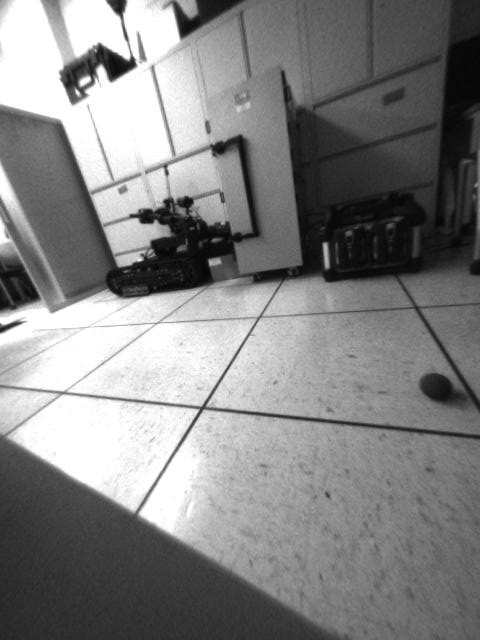dogtoy: (413, 364, 463, 411)
